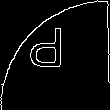P_S: (36, 30, 74, 80)
